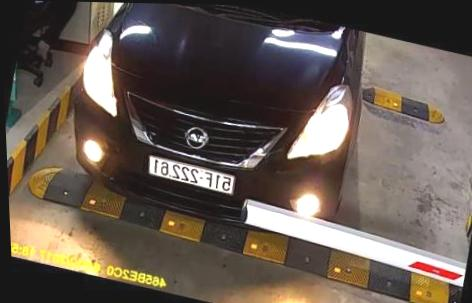License_Plate: (144, 155, 240, 200)
